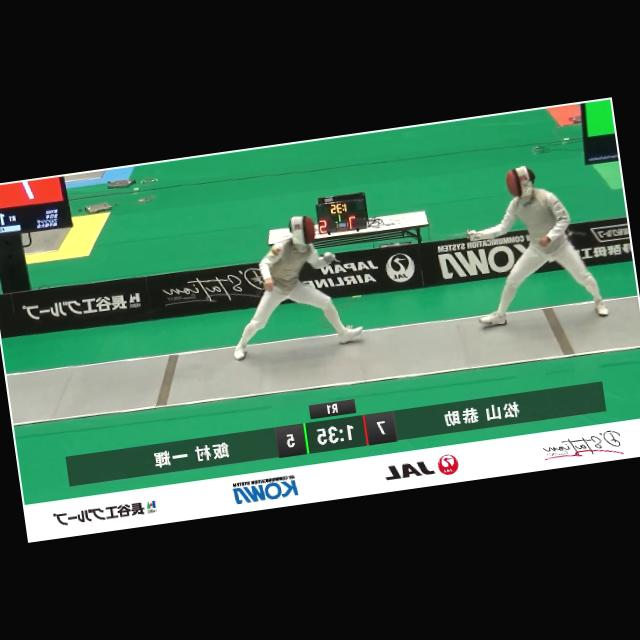blade: (440, 226, 481, 245)
